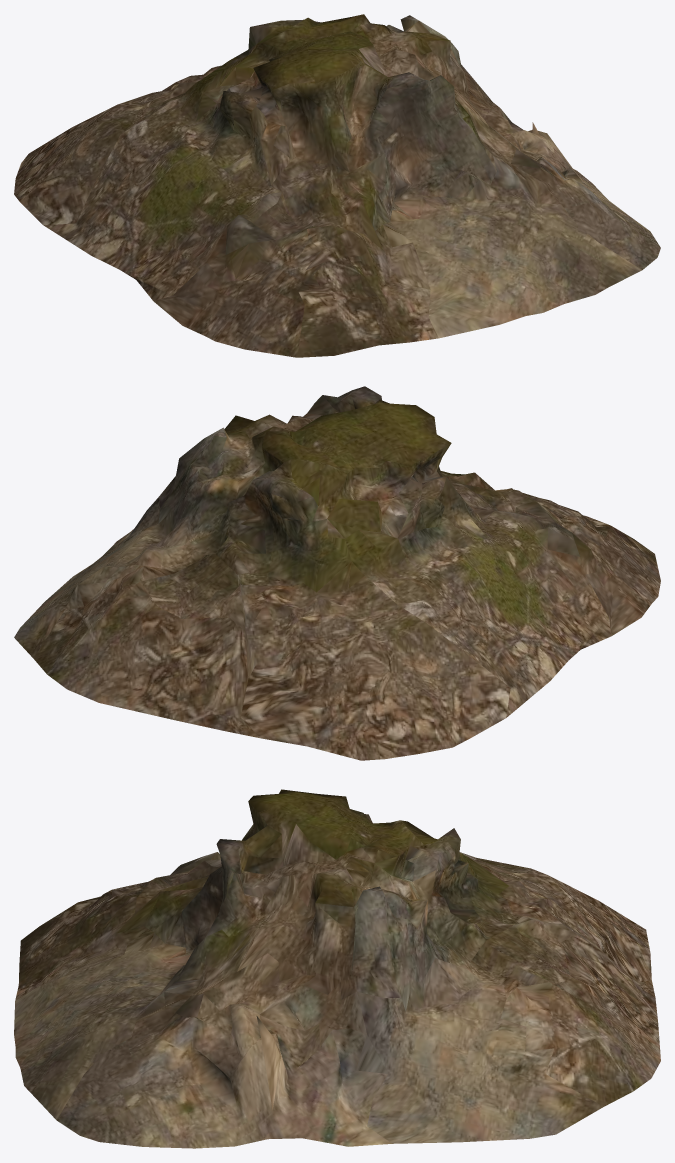
File: tree_stump_01.glb
3 views of the same model, one above another, from view 1: azimuth 30°, elevation 25°; view 2: azimuth 150°, elevation 25°; view 3: azimuth 270°, elevation 25° (orthographic). The views are drawn at different scales.
Parts seen in each view (by area): view 1: tree_stump_01; view 2: tree_stump_01; view 3: tree_stump_01.
Boxes of the visible parts, x1=… form: tree_stump_01: x1=14, y1=14, x2=660, y2=357; tree_stump_01: x1=14, y1=386, x2=660, y2=760; tree_stump_01: x1=14, y1=789, x2=660, y2=1148.
Bounding box in the file's own units: 1.43 × 0.5749 × 1.59.
Materials: 1 (1 with a texture image).
